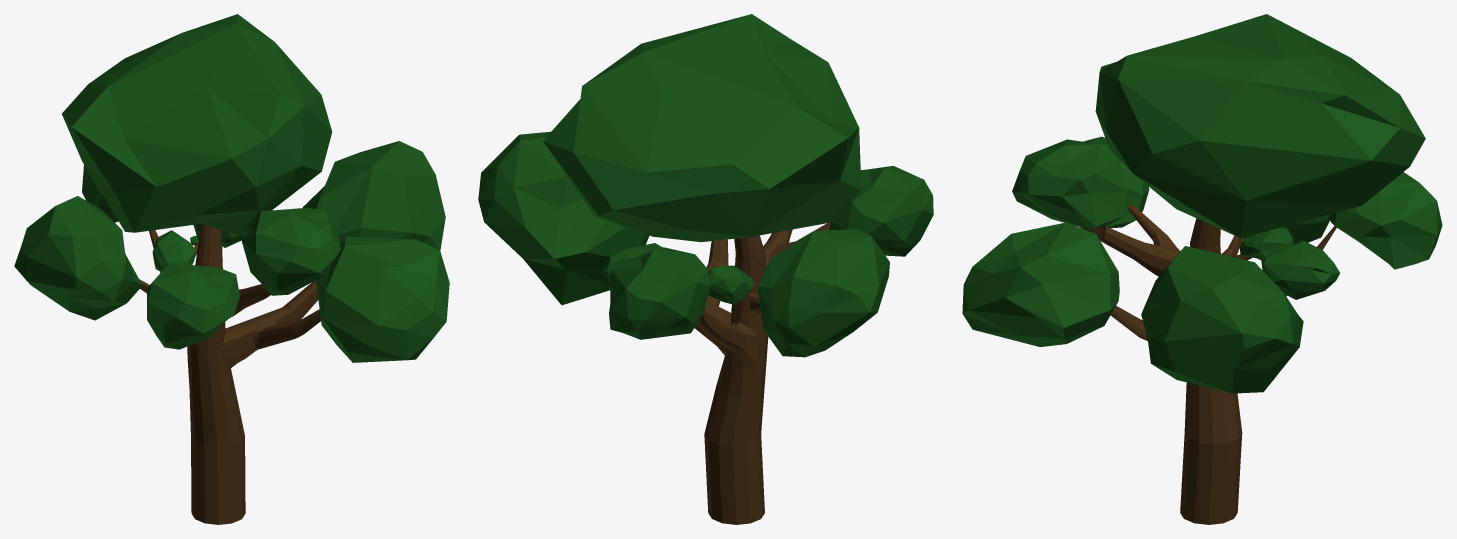
File: Tree.gltf
3 views of the same model, side by side, from view 1: azimuth 30°, elevation 25°; view 2: azimuth 150°, elevation 25°; view 3: azimuth 270°, elevation 25° (orthographic). The views are drawn at different scales.
Parts seen in each view (by area): view 1: Icosphere.001; view 2: Icosphere.001; view 3: Icosphere.001.
Part boxes in pixels (x1,y1,x2,y2): Icosphere.001: (14,14,449,524); Icosphere.001: (478,14,933,524); Icosphere.001: (962,14,1442,524).
Bounding box in the file's own units: 16.8 × 18.41 × 16.67.
